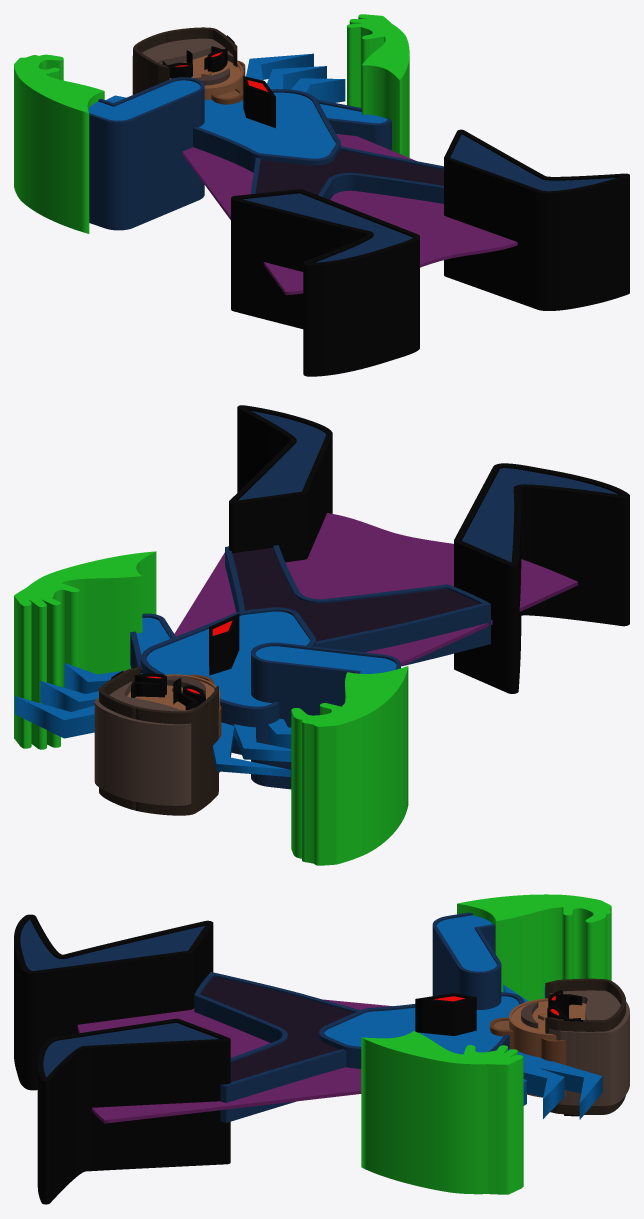
Rendered from emoji_u1f9b9_1f3fe_200d_2642.glb.
3 renders of one model, top to bottom at view 1: azimuth 30°, elevation 25°; view 2: azimuth 150°, elevation 25°; view 3: azimuth 270°, elevation 25°, orthographic. The views are drawn at different scales.
Parts seen in each view (by area): view 1: emoji_u1f9b9_1f3fe_200d_2642; view 2: emoji_u1f9b9_1f3fe_200d_2642; view 3: emoji_u1f9b9_1f3fe_200d_2642.
Boxes of the visible parts, x1,y1,x2,y2 form: emoji_u1f9b9_1f3fe_200d_2642: (14, 14, 629, 376); emoji_u1f9b9_1f3fe_200d_2642: (14, 405, 629, 865); emoji_u1f9b9_1f3fe_200d_2642: (14, 894, 629, 1204).
Bounding box in the file's own units: 0.0238 × 0.0078 × 0.0335.
